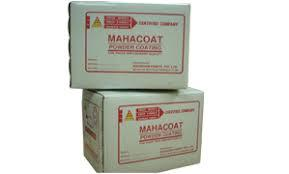Cardboard: (51, 3, 236, 174)
